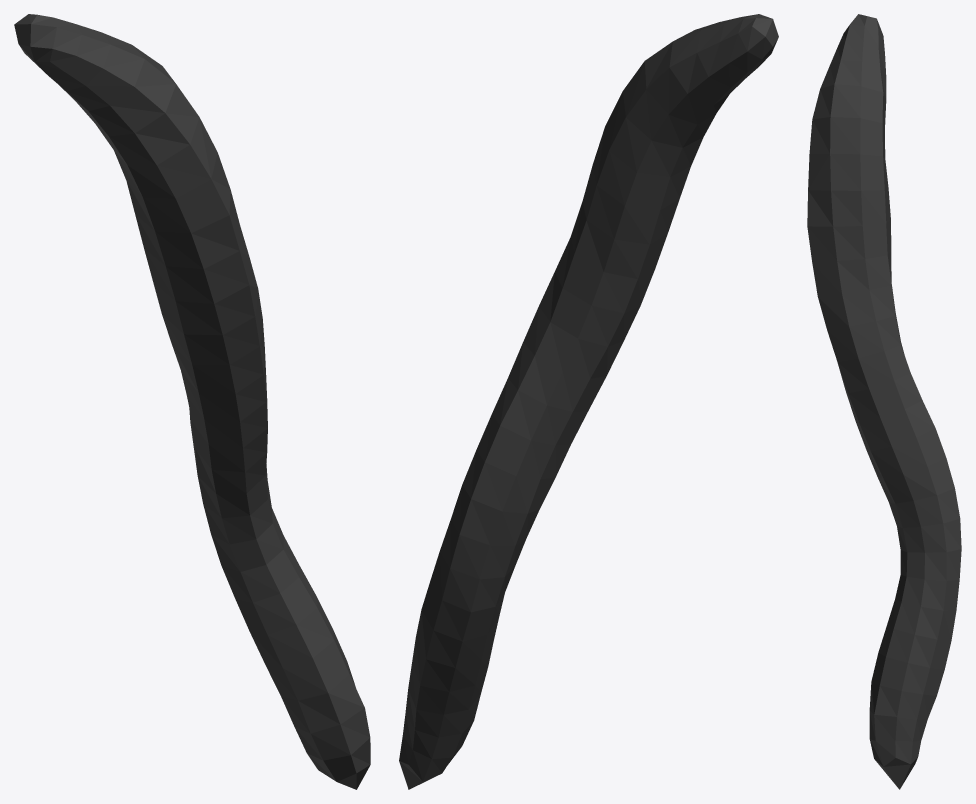
The model's file is Articularis_1.glb.
The picture shows the model from 3 angles, left to right: view 1: azimuth 30°, elevation 25°; view 2: azimuth 150°, elevation 25°; view 3: azimuth 270°, elevation 25°; orthographic projection. The views are drawn at different scales.
Parts seen in each view (by area): view 1: Articularis_1; view 2: Articularis_1; view 3: Articularis_1.
Boxes of the visible parts, left/top/right/bottom form: Articularis_1: left=14, top=14, right=370, bottom=789; Articularis_1: left=399, top=14, right=778, bottom=789; Articularis_1: left=807, top=14, right=961, bottom=789.
Bounding box in the file's own units: 0.6036 × 1.38 × 0.2965.
Materials: 1 (1 with a texture image).
